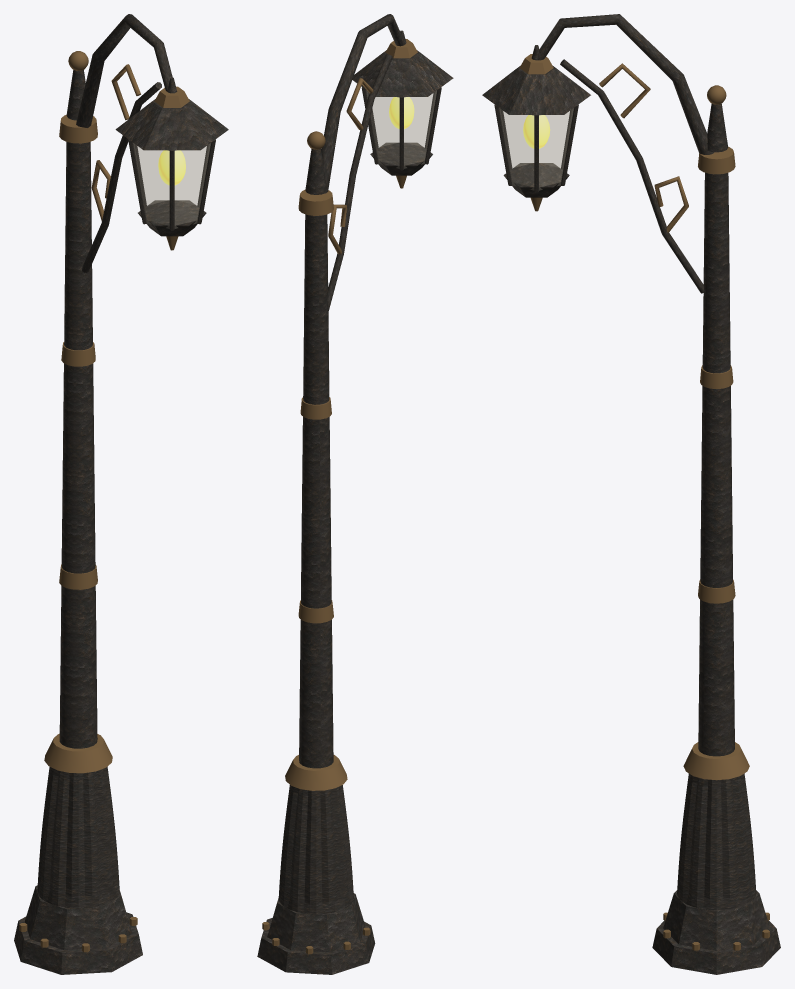
File: streetlamp.glb
The picture shows the model from 3 angles, left to right: view 1: azimuth 30°, elevation 25°; view 2: azimuth 150°, elevation 25°; view 3: azimuth 270°, elevation 25°; orthographic projection. The views are drawn at different scales.
Visible parts, largest first — view 1: Lamp_Post, Lamp_Glow; view 2: Lamp_Post, Lamp_Glow; view 3: Lamp_Post.
Part boxes in pixels (x1,y1,x2,y2): Lamp_Post: [14, 14, 228, 974]; Lamp_Glow: [158, 150, 185, 185]; Lamp_Post: [257, 14, 453, 974]; Lamp_Glow: [389, 97, 414, 129]; Lamp_Post: [482, 14, 780, 974].
Size of the model in its own units: 0.6 by 4.81 by 1.4.
Materials: 6 (1 with a texture image).
